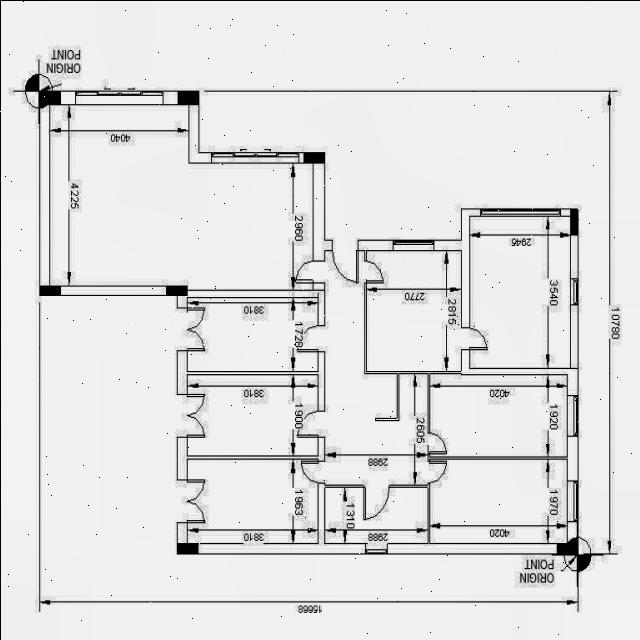Column: (38, 90, 60, 104), (176, 90, 198, 104), (175, 542, 198, 554), (556, 542, 578, 554), (302, 151, 324, 163), (165, 285, 187, 295), (38, 285, 60, 295), (570, 208, 578, 235)
Door: (330, 238, 358, 282), (362, 484, 388, 520), (294, 260, 324, 290), (296, 409, 324, 436), (296, 324, 324, 351), (460, 326, 488, 350), (300, 458, 324, 482), (426, 432, 446, 456), (426, 458, 446, 482), (363, 260, 383, 282)
Double-Door: (176, 306, 204, 351), (176, 478, 204, 522), (176, 393, 204, 437)
Window: (74, 90, 162, 104), (210, 151, 298, 163), (479, 207, 560, 216), (566, 479, 578, 522), (566, 394, 578, 436), (392, 238, 434, 250), (364, 542, 387, 554), (570, 278, 578, 304)
